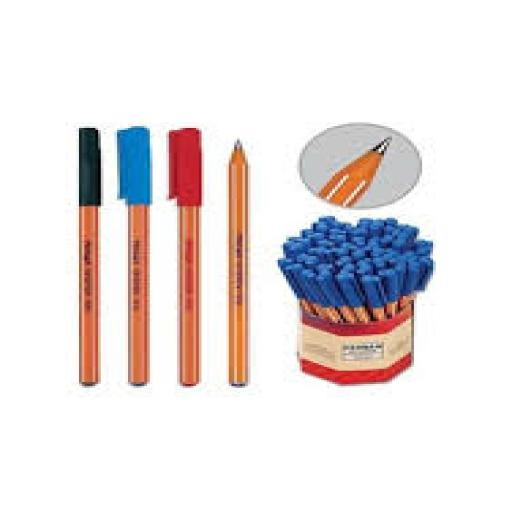tukenmez-kalem: (39, 107, 512, 418)
